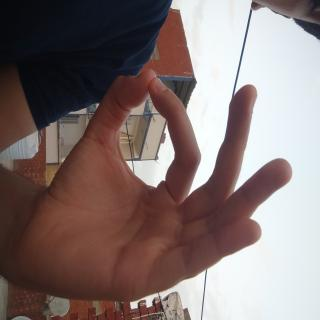Space: (41, 26, 239, 320)
